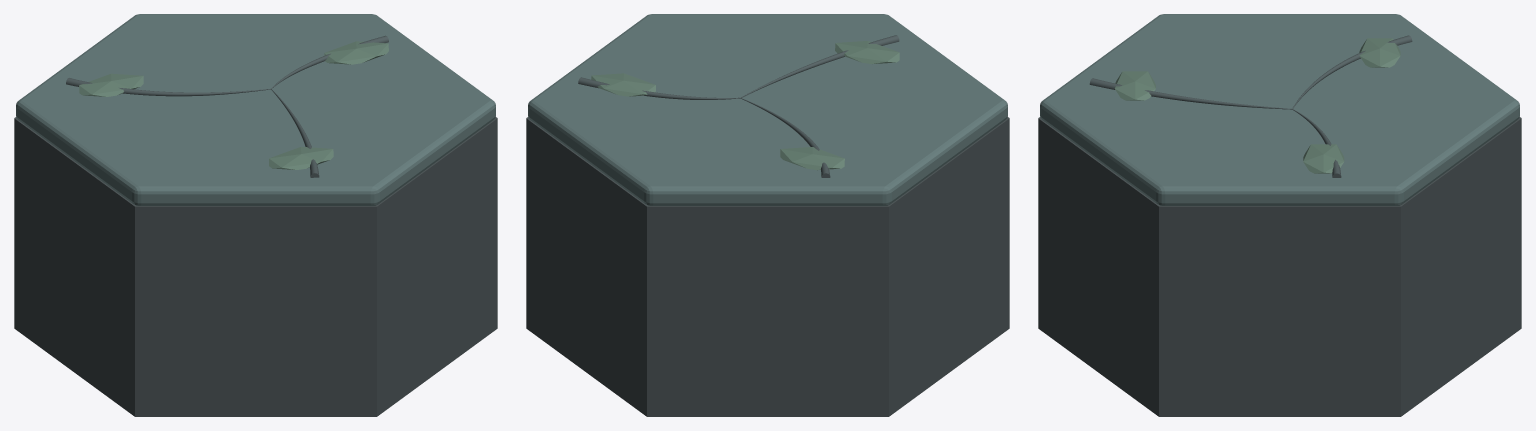
Rendered from hex_glass.glb.
The picture shows the model from 3 angles, left to right: view 1: azimuth 30°, elevation 25°; view 2: azimuth 150°, elevation 25°; view 3: azimuth 270°, elevation 25°; orthographic projection.
Parts seen in each view (by area): view 1: hex_glass; view 2: hex_glass; view 3: hex_glass.
Boxes of the visible parts, box(x1,y1,x2,y2) form: hex_glass: box(14, 14, 497, 416); hex_glass: box(526, 14, 1009, 416); hex_glass: box(1038, 14, 1521, 416).
Bounding box in the file's own units: 1.7 × 1.05 × 1.96.
